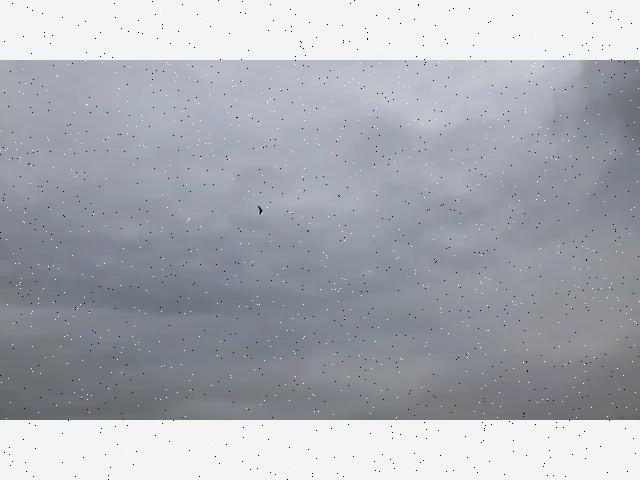Anti-Drone: (248, 202, 268, 218)
